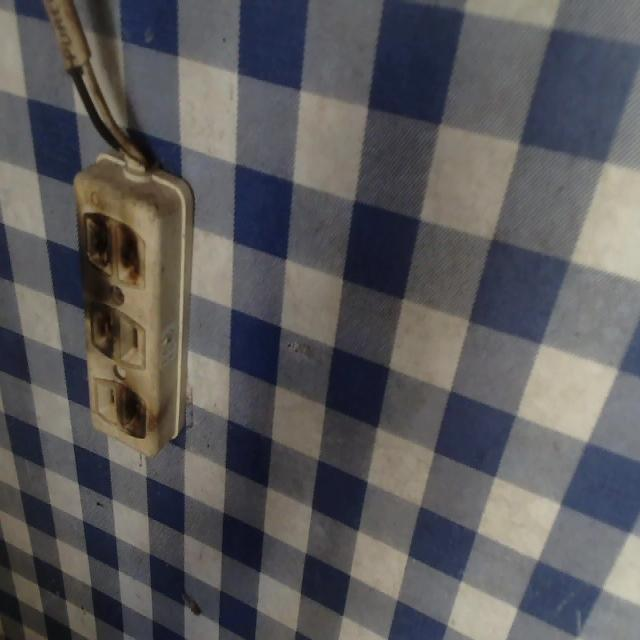-: (81, 208, 146, 291), (82, 297, 119, 355), (117, 384, 149, 443)
